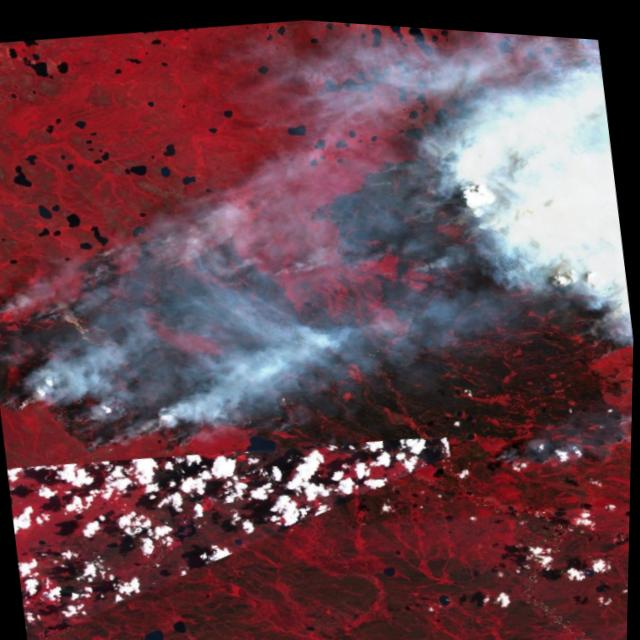fire: (0, 83, 639, 500)
